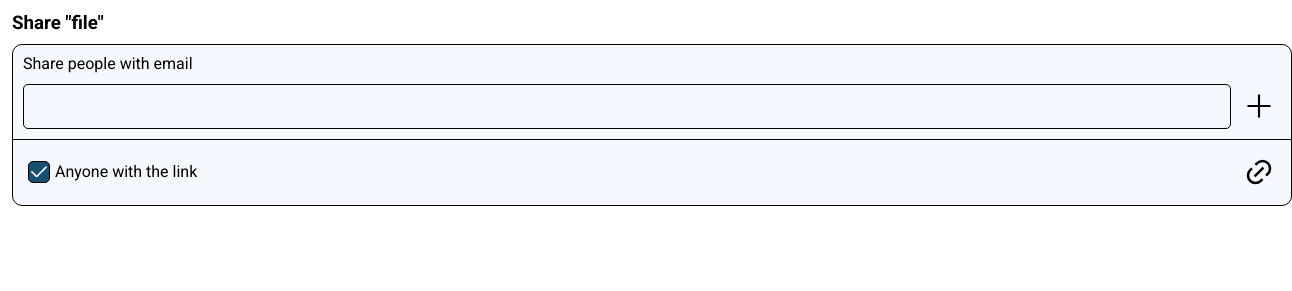
Scenario: FileShare component › should delete the specified file sharer if deleting file sharer is successful
The width and height of the screenshot is (1292, 291).
Type "email@email.com" into the field labelled "Share people with email" at (627, 106), box [23,84,1231,129]
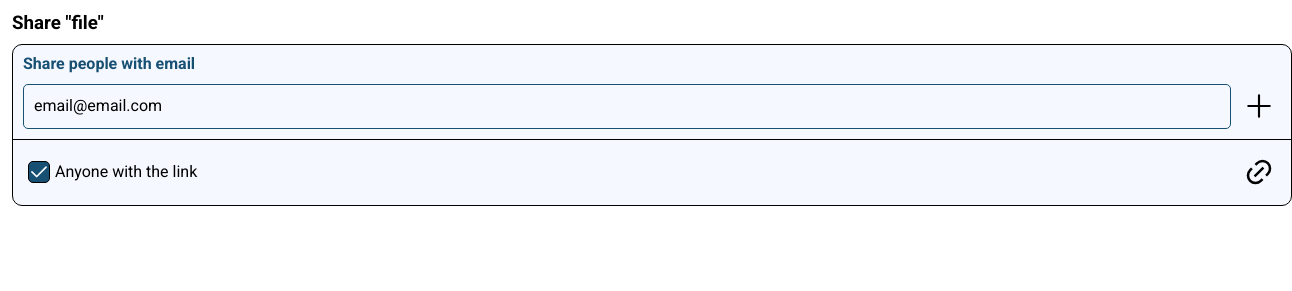
Click the button titled "submit" at (1258, 106), box [1236,84,1281,129]
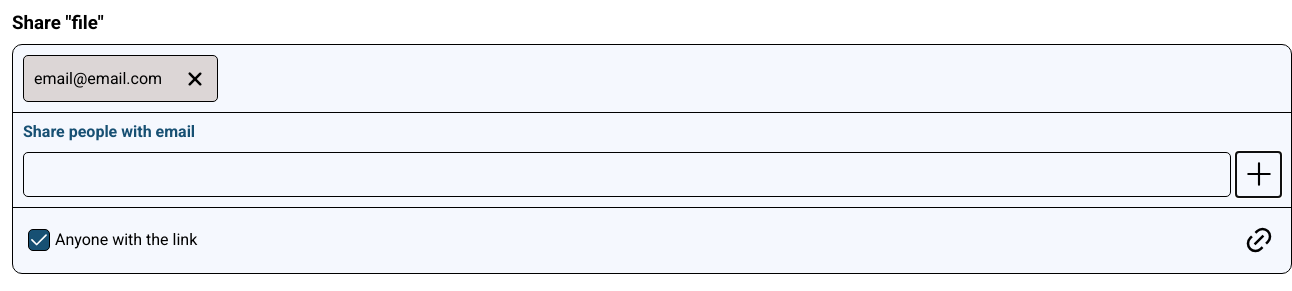
Expected: the number of list items is 1, [23,56,218,102]
Click the button titled "delete-sharer-button" at (195, 79), box [172,56,217,102]
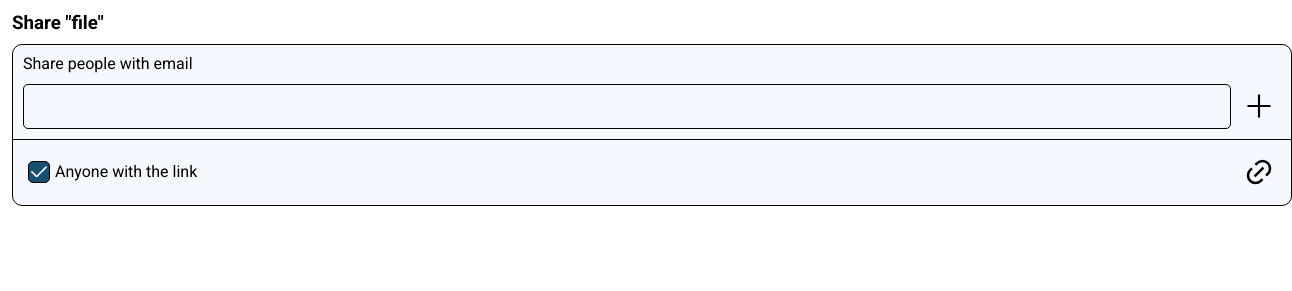
Expected: no list items are shown
